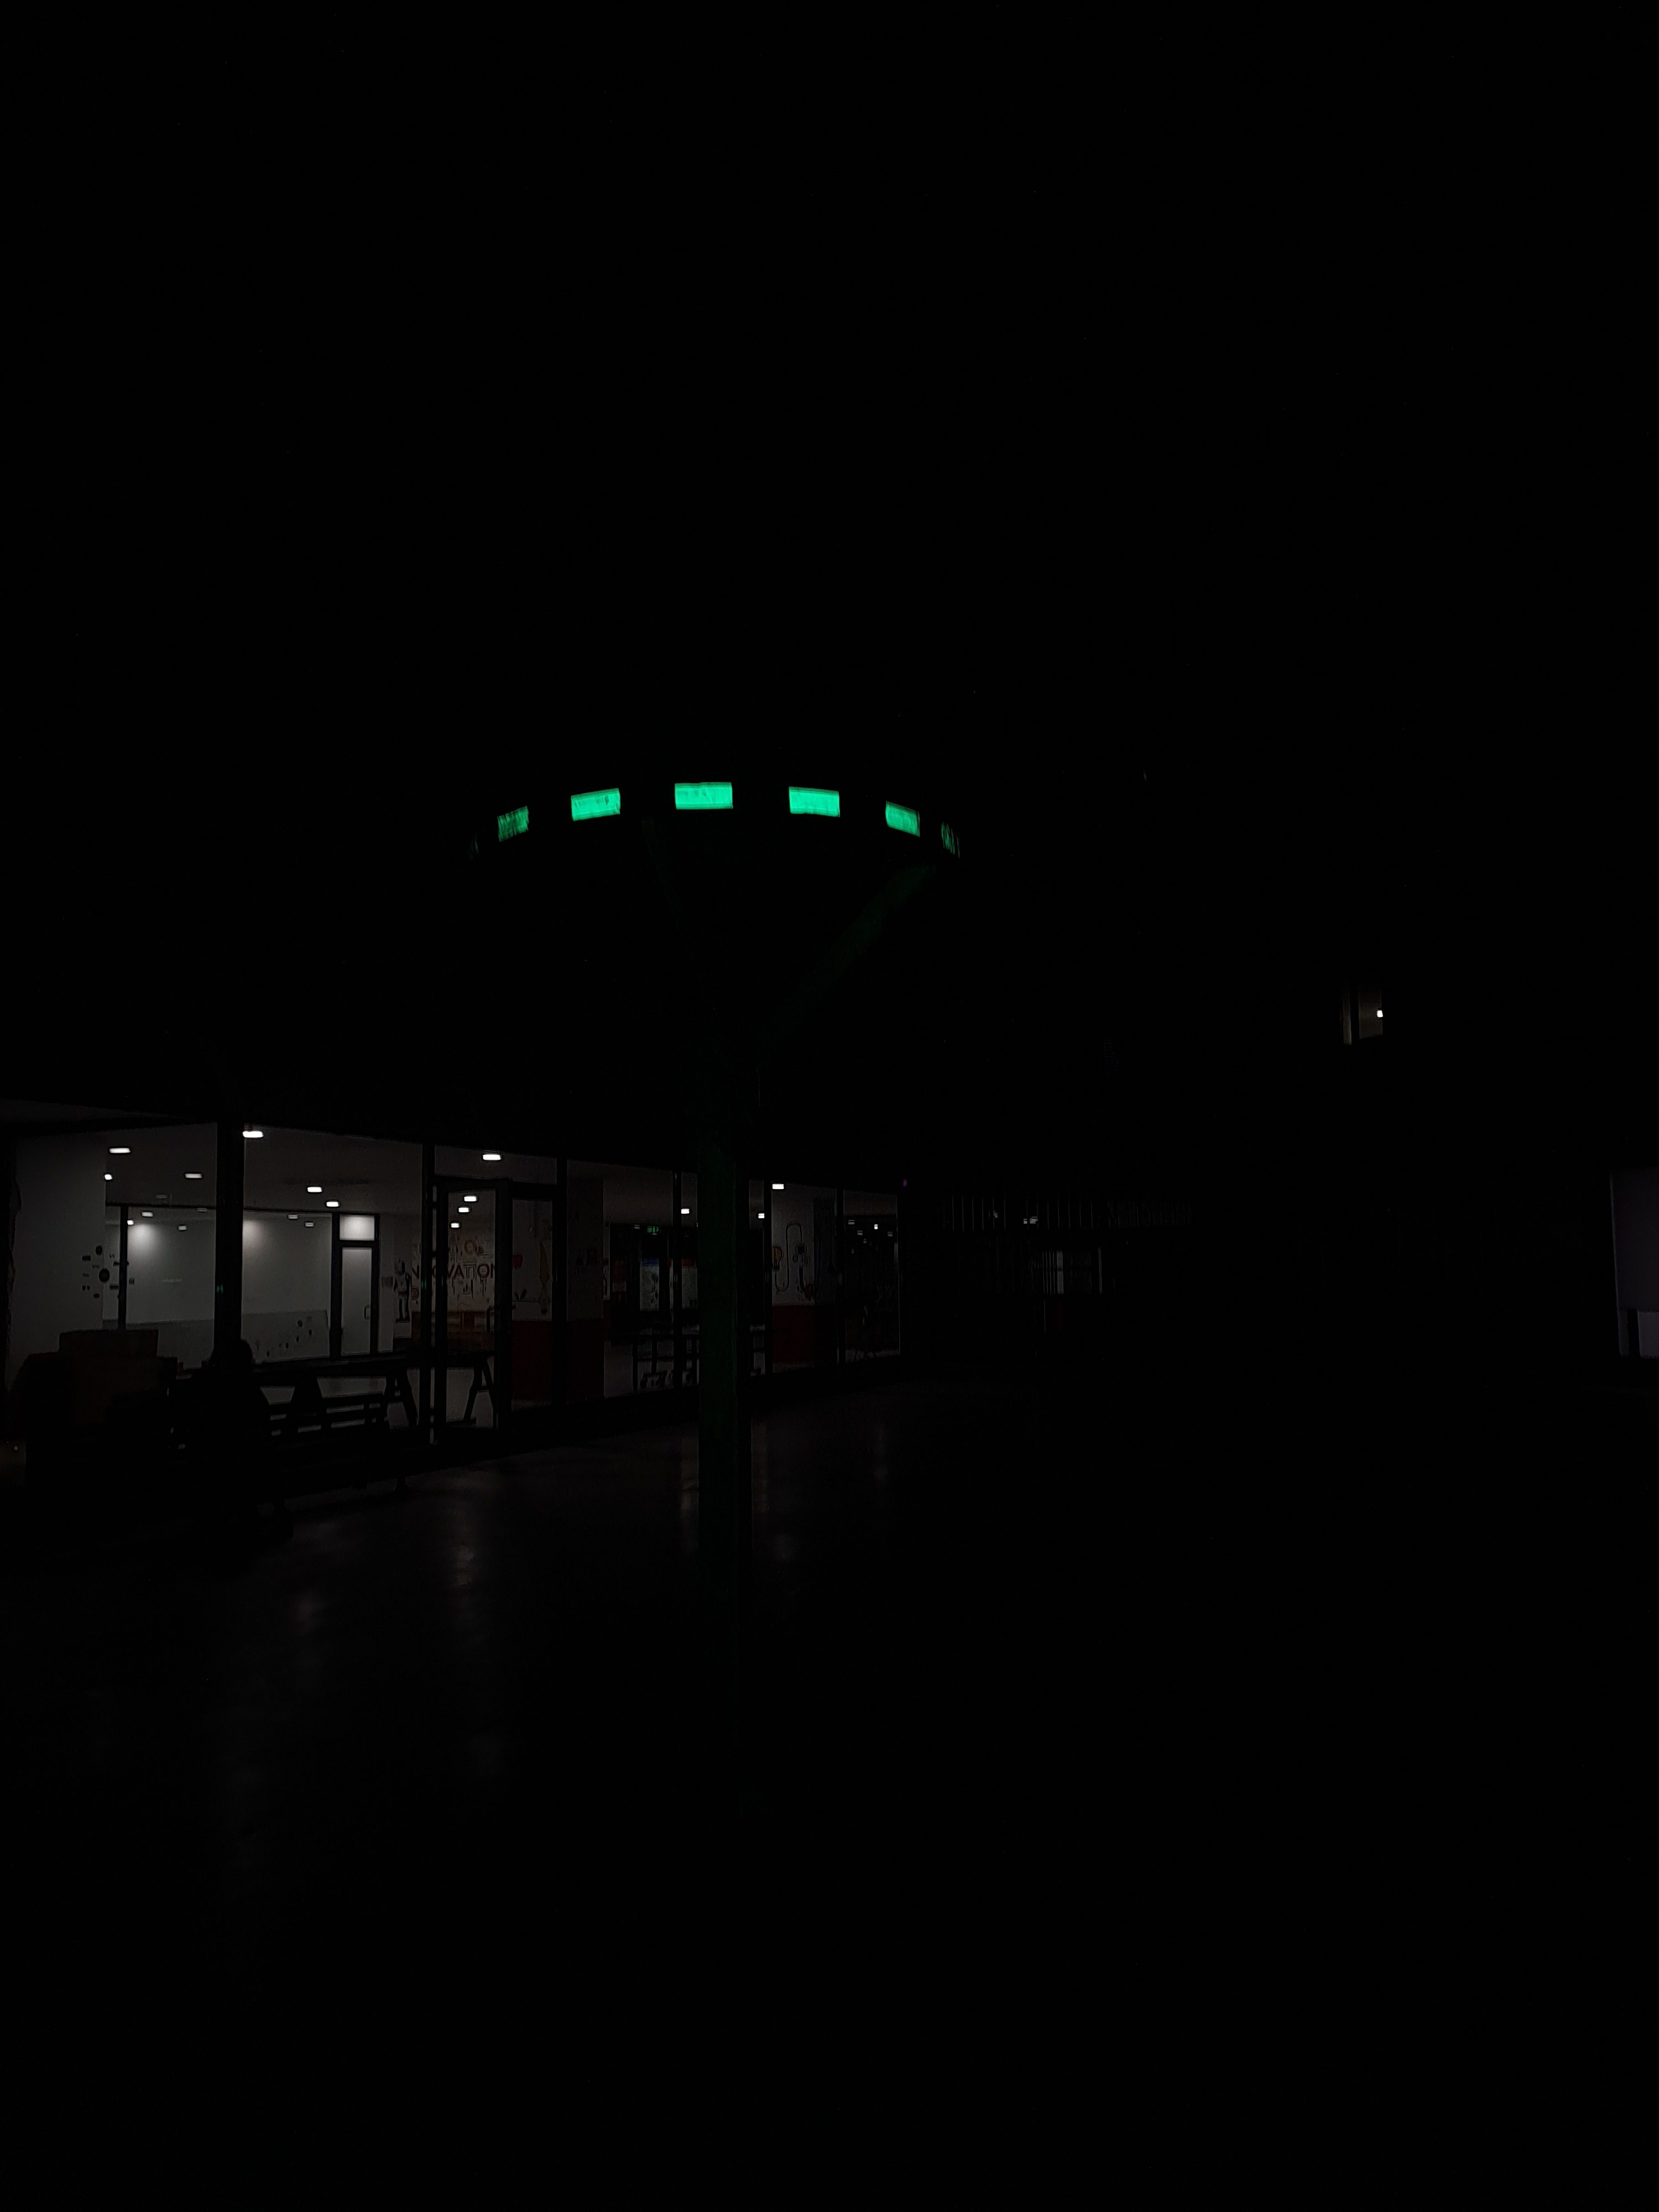hoop: (486, 773, 932, 855)
